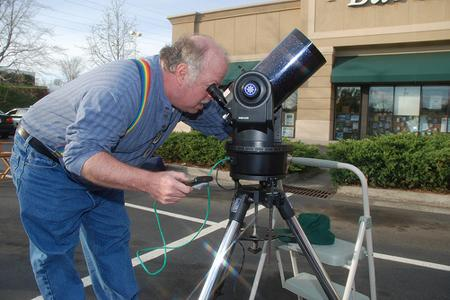person: (10, 33, 233, 300)
